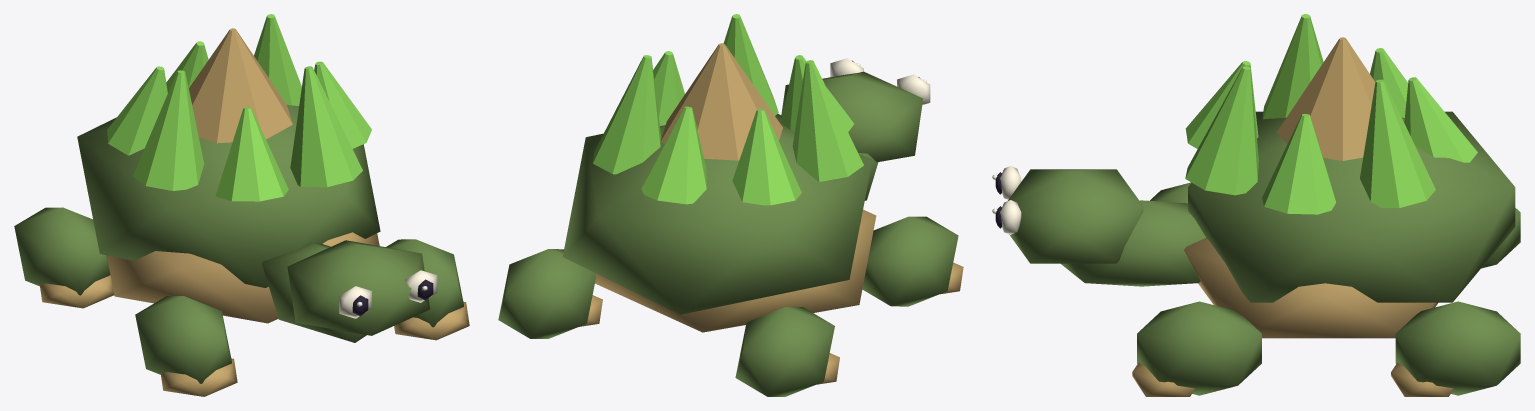
File: t-turtle.glb
3 views of the same model, side by side, from view 1: azimuth 30°, elevation 25°; view 2: azimuth 150°, elevation 25°; view 3: azimuth 270°, elevation 25° (orthographic). The views are drawn at different scales.
Visible parts, largest first — view 1: titan_turtle_body; view 2: titan_turtle_body; view 3: titan_turtle_body.
Part boxes in pixels (x1,y1,x2,y2): titan_turtle_body: [14, 14, 469, 396]; titan_turtle_body: [498, 14, 963, 396]; titan_turtle_body: [992, 14, 1520, 396].
Bounding box in the file's own units: 2.52 × 2.17 × 3.5.
